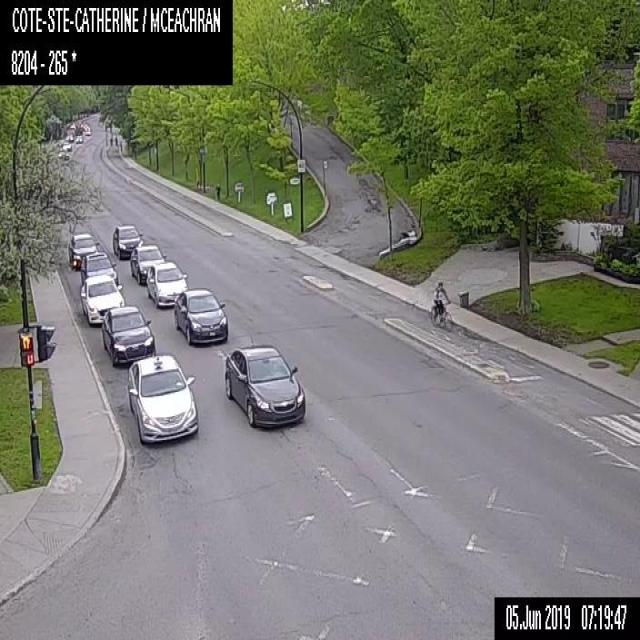cyclist: (427, 280, 452, 328)
pedestrian: (214, 181, 222, 201)
vehicle: (223, 342, 305, 427), (128, 351, 198, 446), (175, 288, 228, 346), (101, 305, 154, 363), (79, 273, 125, 324), (146, 260, 188, 306), (130, 243, 166, 285), (80, 251, 118, 283), (112, 222, 144, 259), (68, 232, 99, 268), (61, 140, 71, 150), (58, 148, 68, 158), (75, 134, 82, 142), (84, 127, 92, 134), (66, 132, 73, 140)
